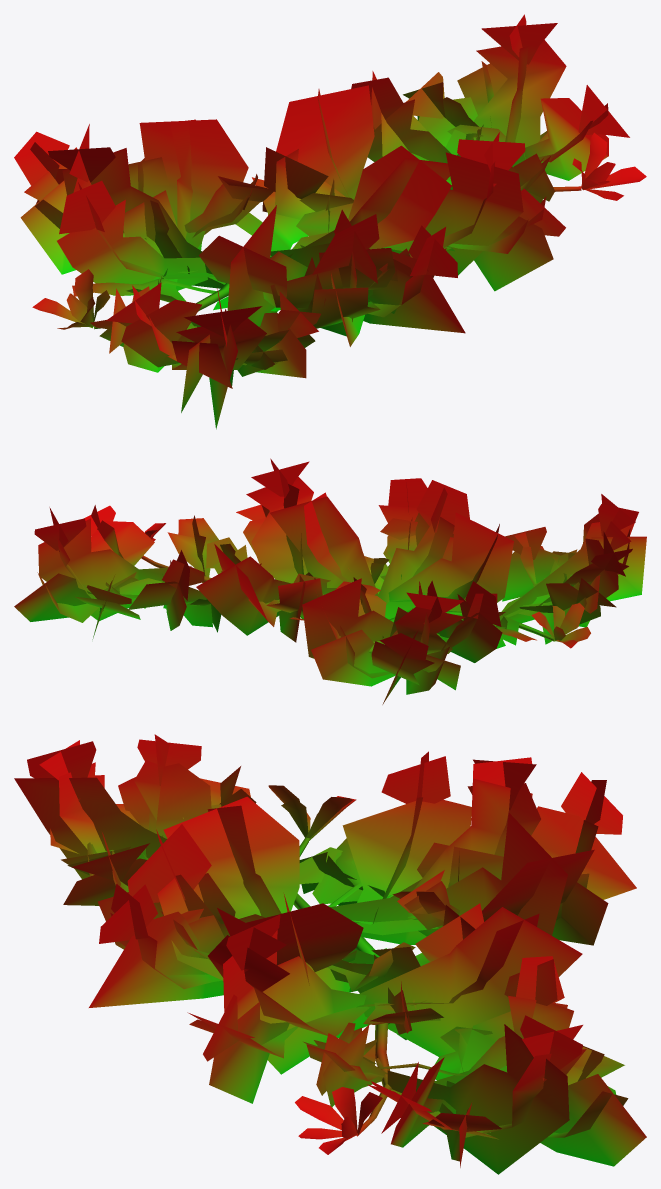
File: Alpine Bearberry_LOD4_Var11_xb0gdazqx.fbx
The picture shows the model from 3 angles, top to bottom: view 1: azimuth 30°, elevation 25°; view 2: azimuth 150°, elevation 25°; view 3: azimuth 270°, elevation 25°; orthographic projection. The views are drawn at different scales.
Visible parts, largest first — view 1: _u1k7_Var11_LOD4; view 2: _u1k7_Var11_LOD4; view 3: _u1k7_Var11_LOD4.
Part boxes in pixels (bbox=[...]): _u1k7_Var11_LOD4: bbox=[14, 14, 646, 429]; _u1k7_Var11_LOD4: bbox=[14, 458, 646, 704]; _u1k7_Var11_LOD4: bbox=[14, 734, 646, 1174].
Bounding box in the file's own units: 50 × 13.16 × 38.17.
